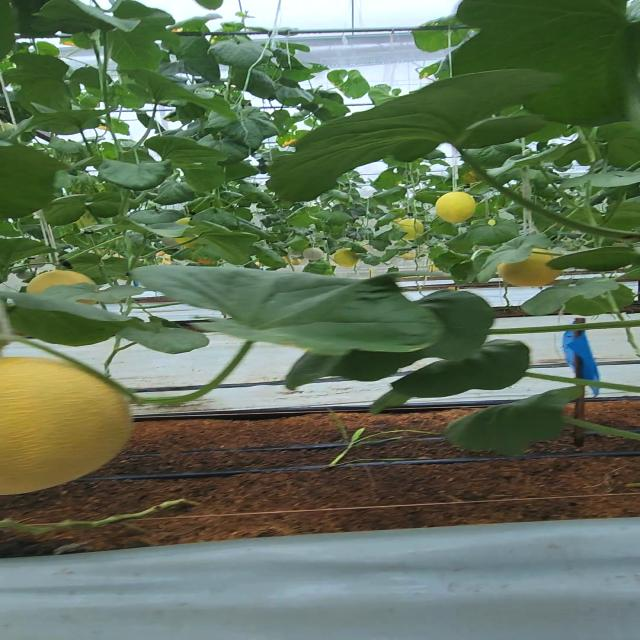Front-melon: (0, 358, 132, 494)
Rear-melon: (439, 194, 478, 224)
